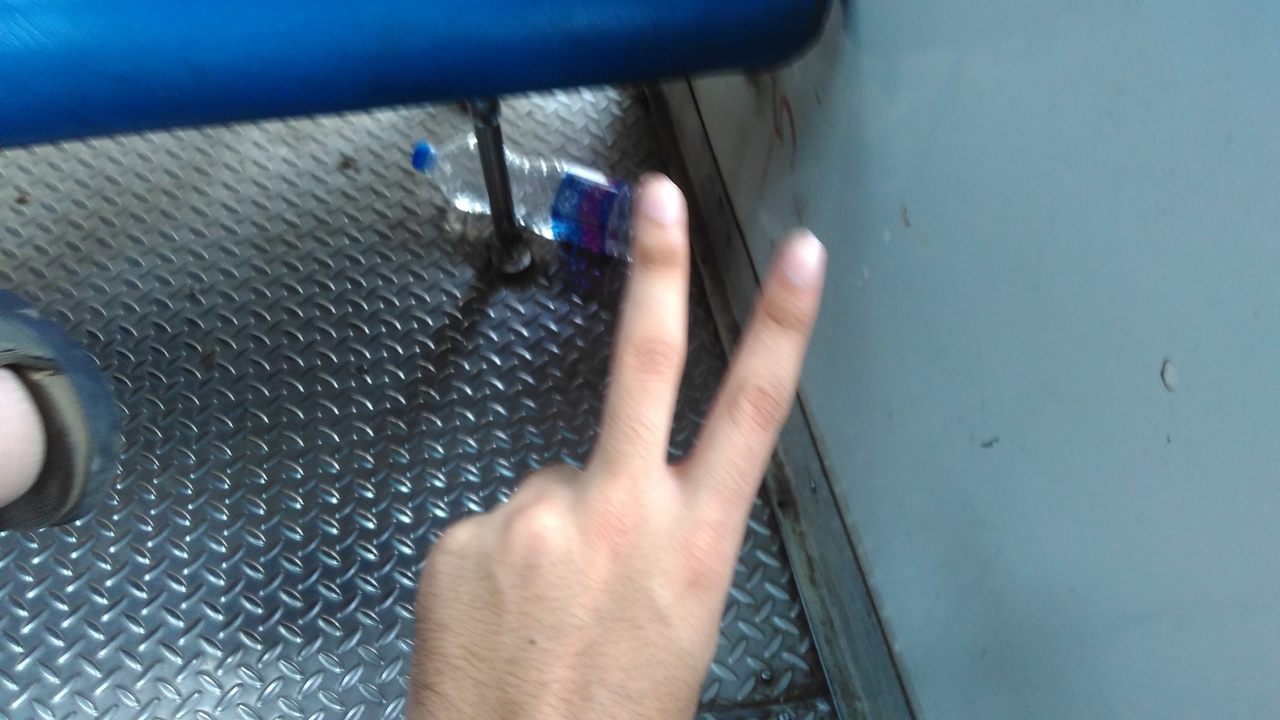fingertip: (768, 218, 834, 296), (622, 164, 684, 240)
